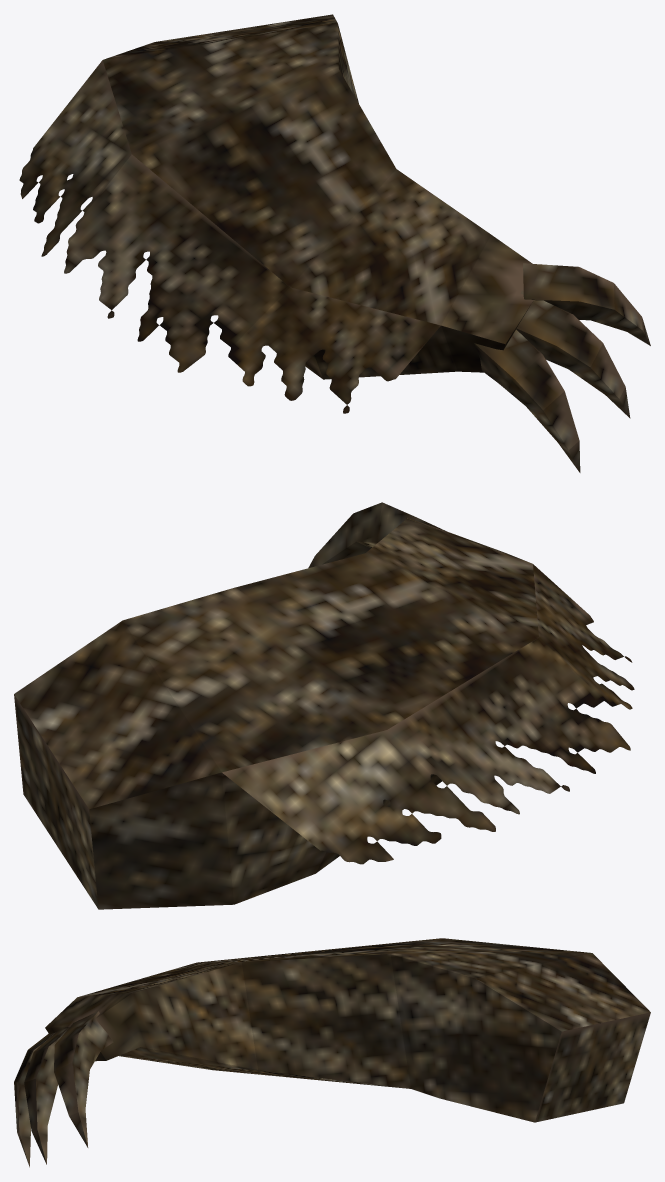
The model's file is wildkinarm.obj.
The picture shows the model from 3 angles, top to bottom: view 1: azimuth 30°, elevation 25°; view 2: azimuth 150°, elevation 25°; view 3: azimuth 270°, elevation 25°; orthographic projection. The views are drawn at different scales.
Visible parts, largest first — view 1: wildkinarm; view 2: wildkinarm; view 3: wildkinarm.
Part boxes in pixels (x1,y1,x2,y2): wildkinarm: (19, 14, 650, 472); wildkinarm: (14, 502, 634, 909); wildkinarm: (14, 938, 650, 1167).
Size of the model in its own units: 0.6034 by 0.3541 by 0.9989.
